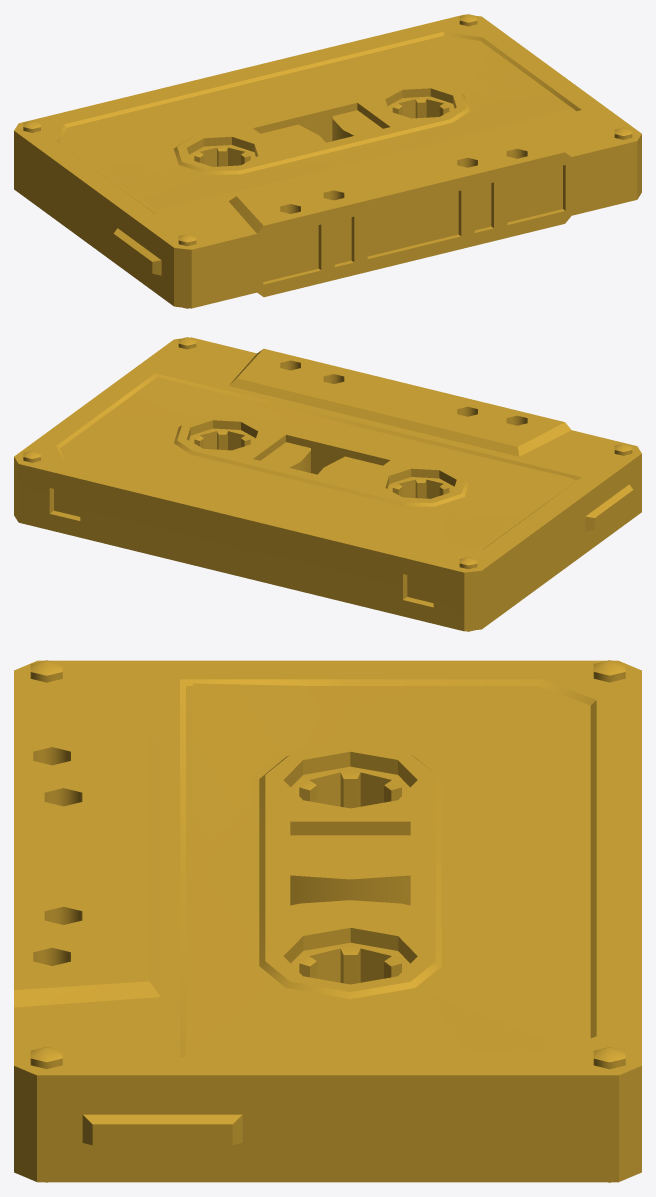
Rendered from cassete_FIRE.fbx.
3 views of the same model, one above another, from view 1: azimuth 30°, elevation 25°; view 2: azimuth 150°, elevation 25°; view 3: azimuth 270°, elevation 25° (orthographic). The views are drawn at different scales.
Visible parts, largest first — view 1: pCylinder167; view 2: pCylinder167; view 3: pCylinder167.
Part boxes in pixels (left/top/right/bottom): pCylinder167: left=14, top=14, right=641, bottom=308; pCylinder167: left=14, top=337, right=641, bottom=631; pCylinder167: left=14, top=660, right=641, bottom=1182.
Size of the model in its own units: 10.29 by 1.51 by 6.4.
